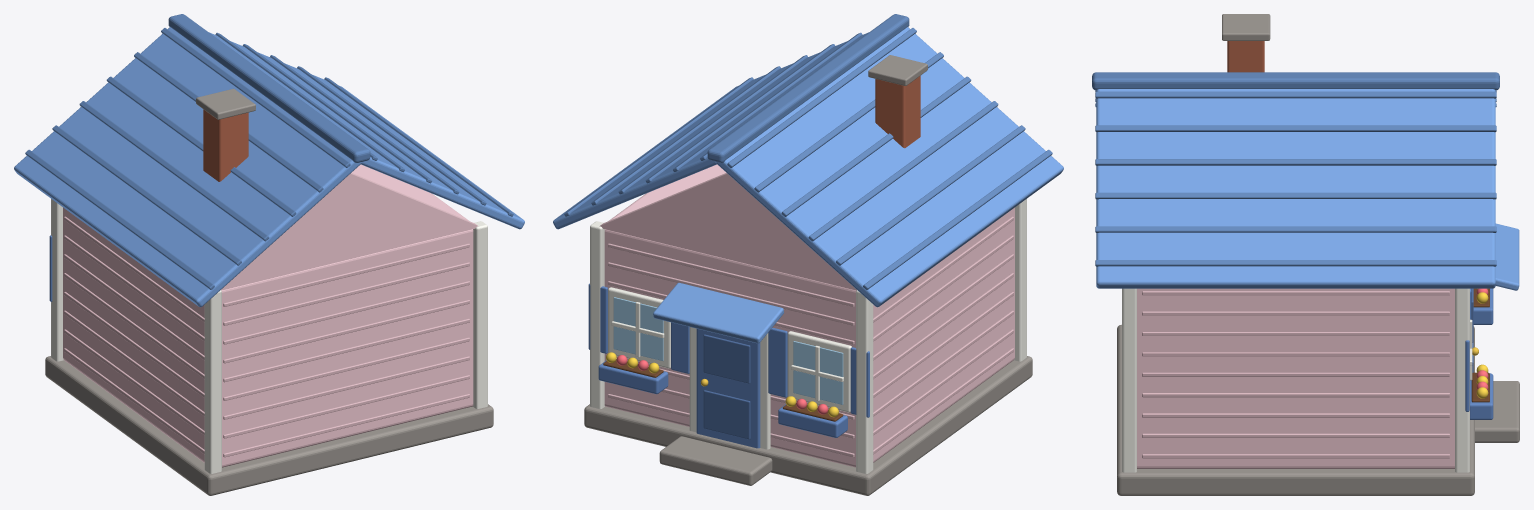
File: house_b.glb
3 renders of one model, left to right at view 1: azimuth 30°, elevation 25°; view 2: azimuth 150°, elevation 25°; view 3: azimuth 270°, elevation 25°, orthographic. The views are drawn at different scales.
Visible parts, largest first — view 1: house_b; view 2: house_b; view 3: house_b.
Part boxes in pixels (x1,y1,x2,y2): house_b: (14,14,524,495); house_b: (553,14,1063,495); house_b: (1092,14,1519,495).
Size of the model in its own units: 4.94 by 4.81 by 5.14.
